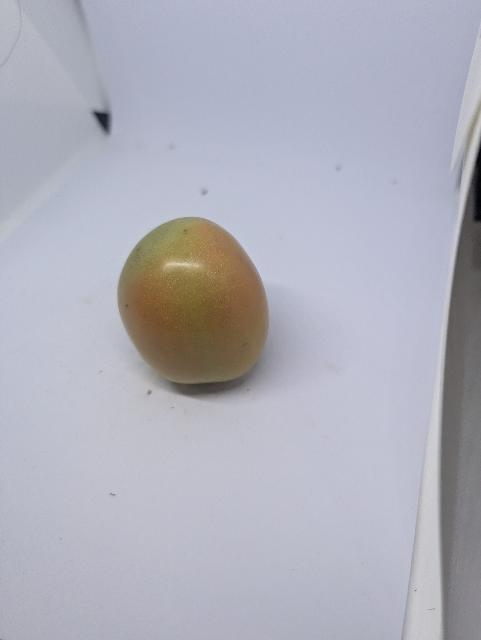breaker: (112, 213, 275, 391)
